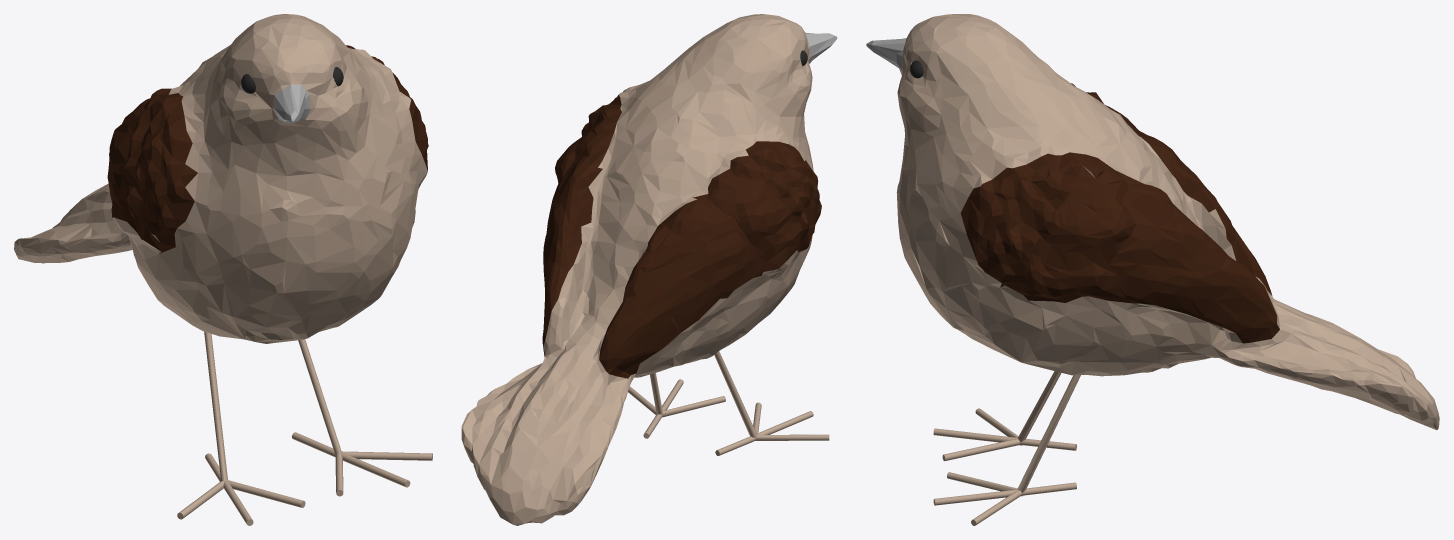
Rendered from eda32aa4-1ccd-493f-bcb2-34e09d90dfb7.glb.
The picture shows the model from 3 angles, left to right: view 1: azimuth 30°, elevation 25°; view 2: azimuth 150°, elevation 25°; view 3: azimuth 270°, elevation 25°; orthographic projection. The views are drawn at different scales.
Parts seen in each view (by area): view 1: Sparrow001, Line006, Line007; view 2: Sparrow001, Line007, Line006; view 3: Sparrow001, Line006, Line007.
Part boxes in pixels (bbox=[...]): Sparrow001: bbox=[14, 14, 428, 343]; Line006: bbox=[292, 339, 432, 496]; Line007: bbox=[177, 331, 305, 525]; Sparrow001: bbox=[461, 14, 837, 525]; Line007: bbox=[714, 351, 829, 455]; Line006: bbox=[628, 373, 725, 438]; Sparrow001: bbox=[866, 14, 1439, 430]; Line006: bbox=[933, 375, 1080, 525]; Line007: bbox=[933, 371, 1076, 461].
Bounding box in the file's own units: 77.79 × 125 × 149.
